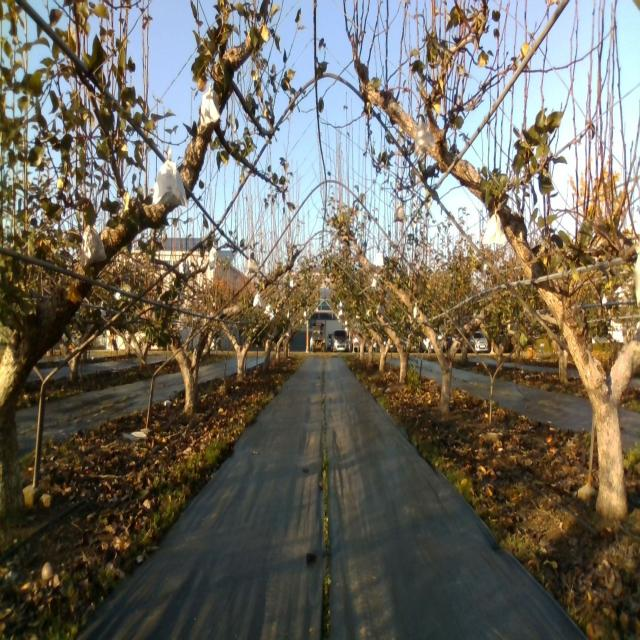pearbags: (152, 150, 191, 208), (80, 225, 106, 266), (482, 205, 505, 247), (413, 120, 437, 160), (202, 84, 222, 126), (393, 204, 406, 223)
